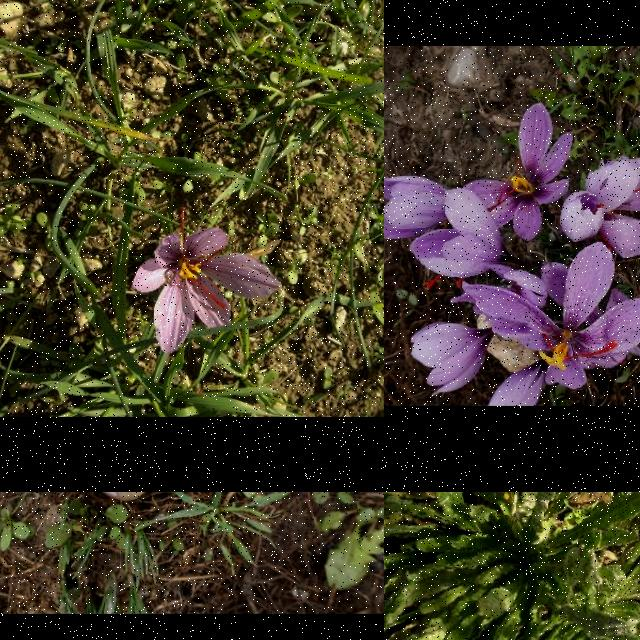flower: (461, 241, 640, 390), (134, 210, 282, 354), (462, 101, 574, 242), (409, 322, 491, 398), (488, 362, 546, 406), (559, 190, 605, 243)
overlap: (384, 101, 640, 369)
